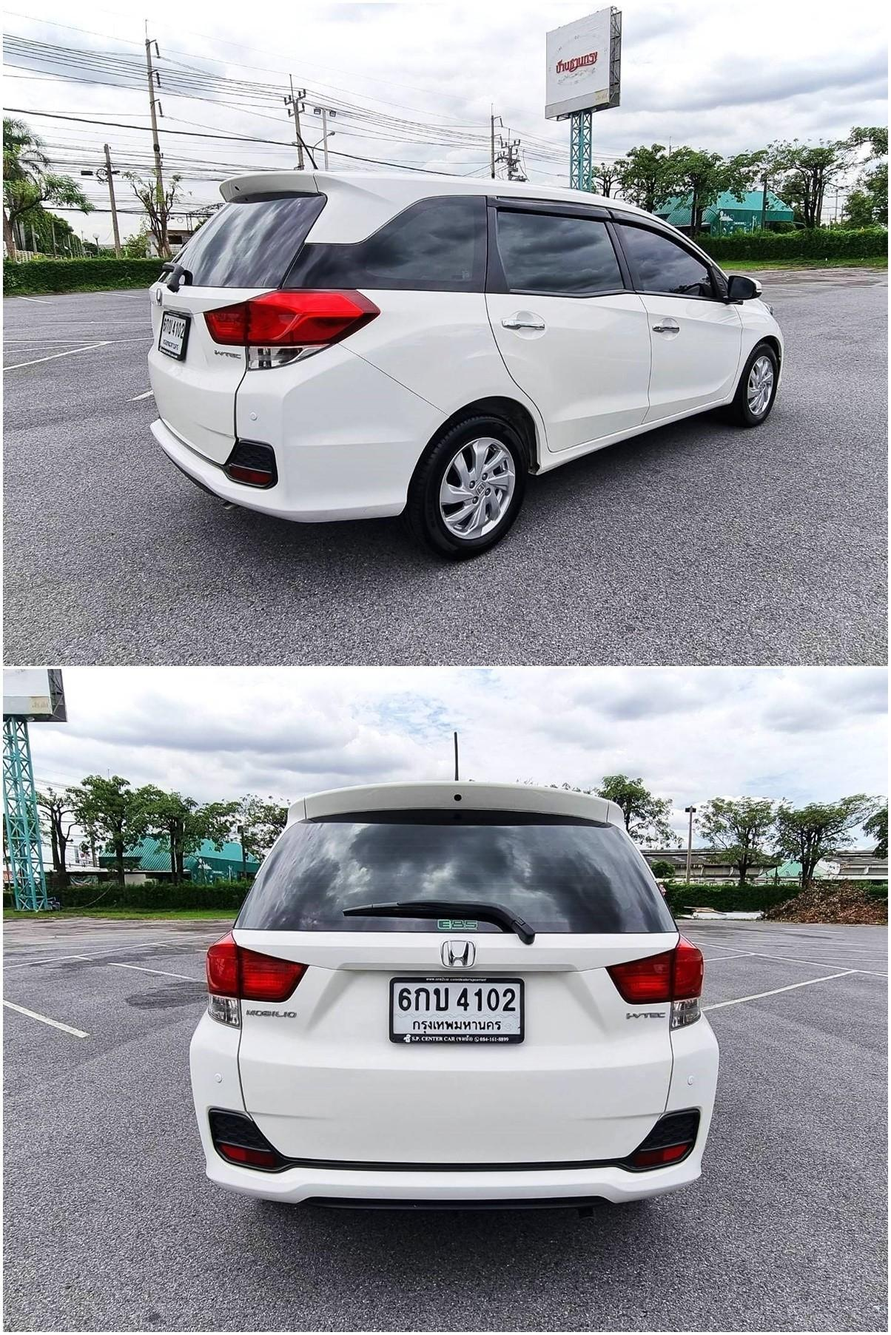license-plate: (389, 966, 530, 1052), (154, 309, 190, 358)
